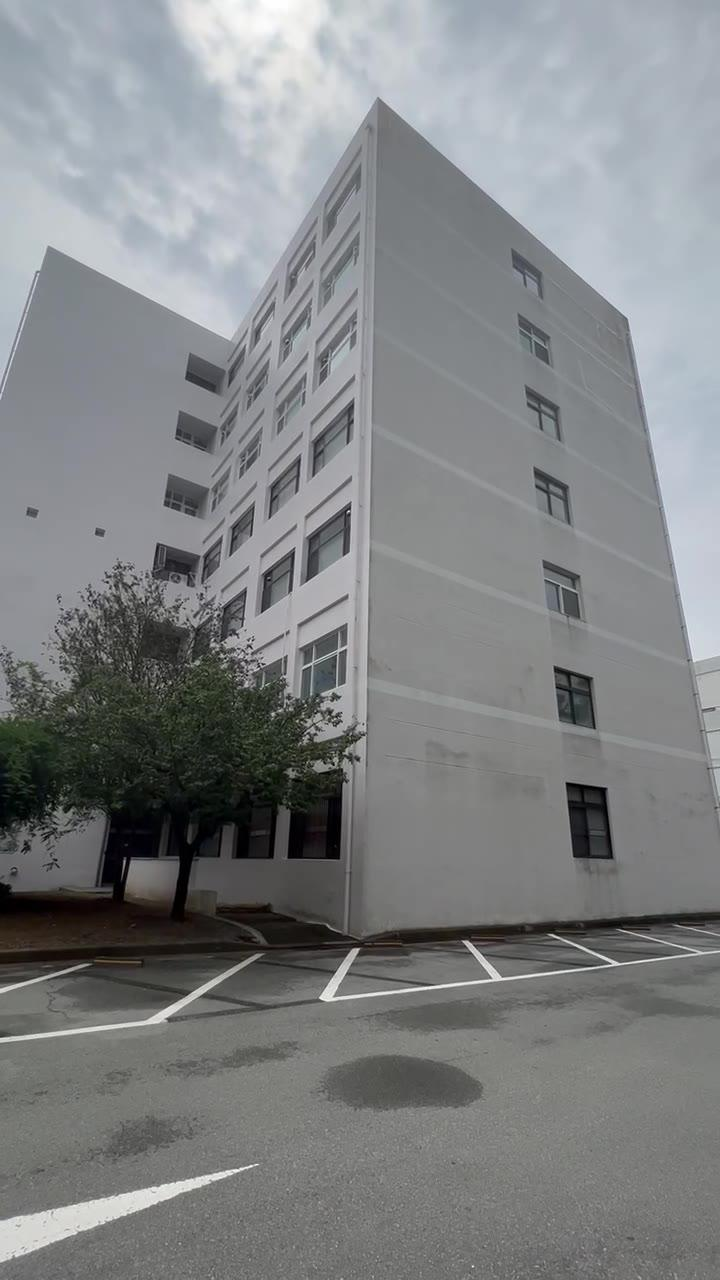building: (308, 154, 710, 930)
